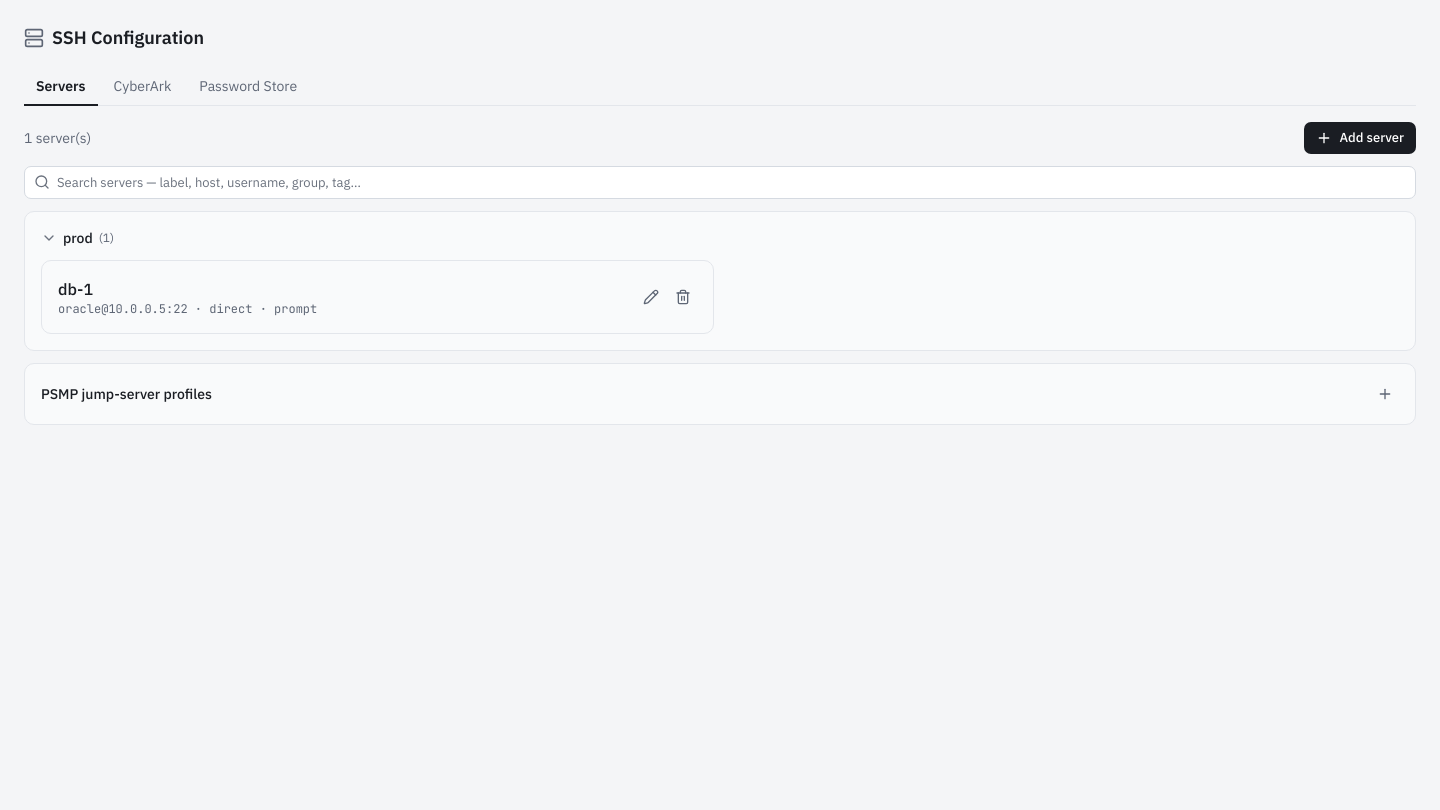
Test: SshPage — group cards + in-place editing › opens the server edit form in place, inside its own group card
The image size is (1440, 810).
Click the button titled "Edit server".
click(651, 297)  # box [637,283,665,311]
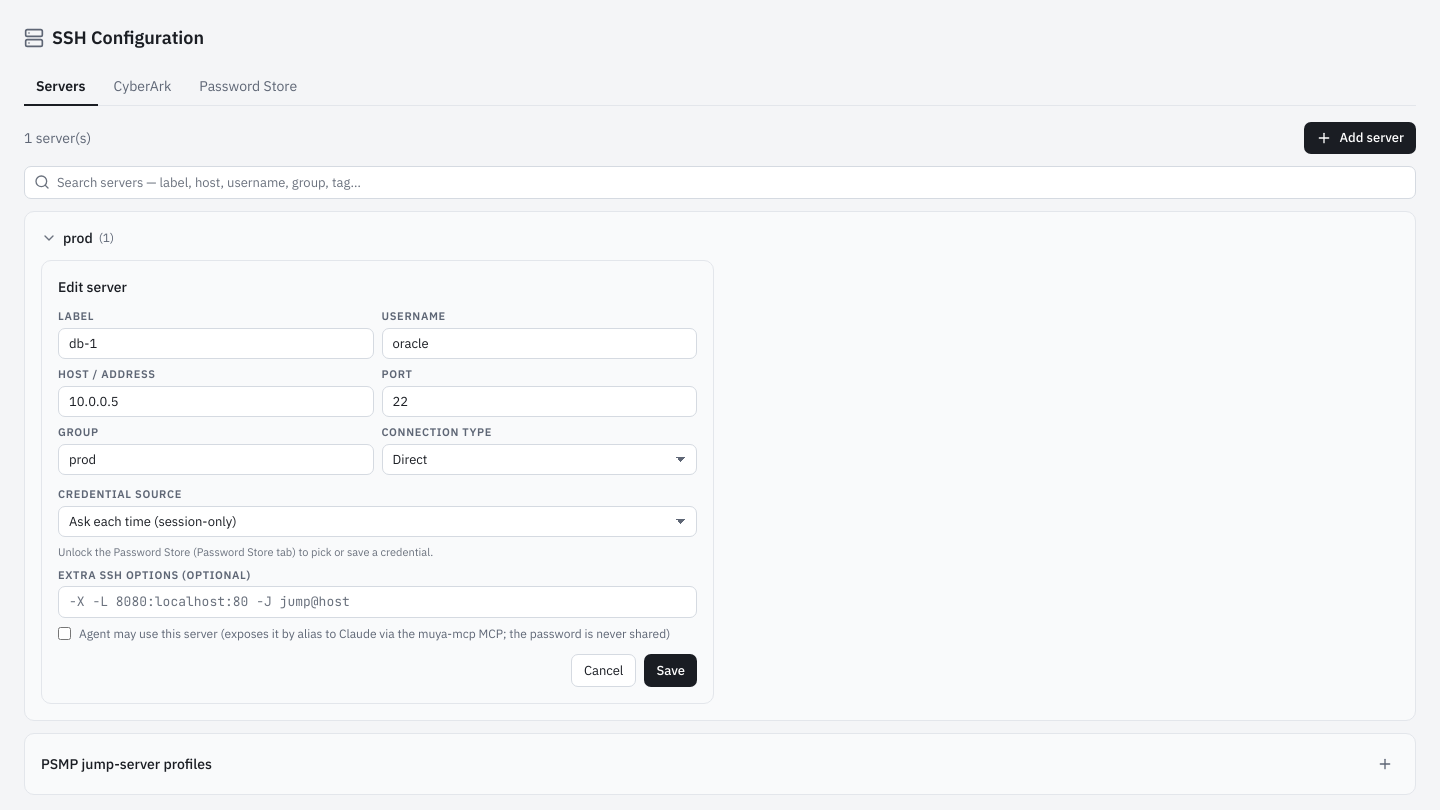
Check: the text "Edit server" is shown, box [58,278,127,296]
Check: the field showing "prod" is shown, box [58,444,374,475]
